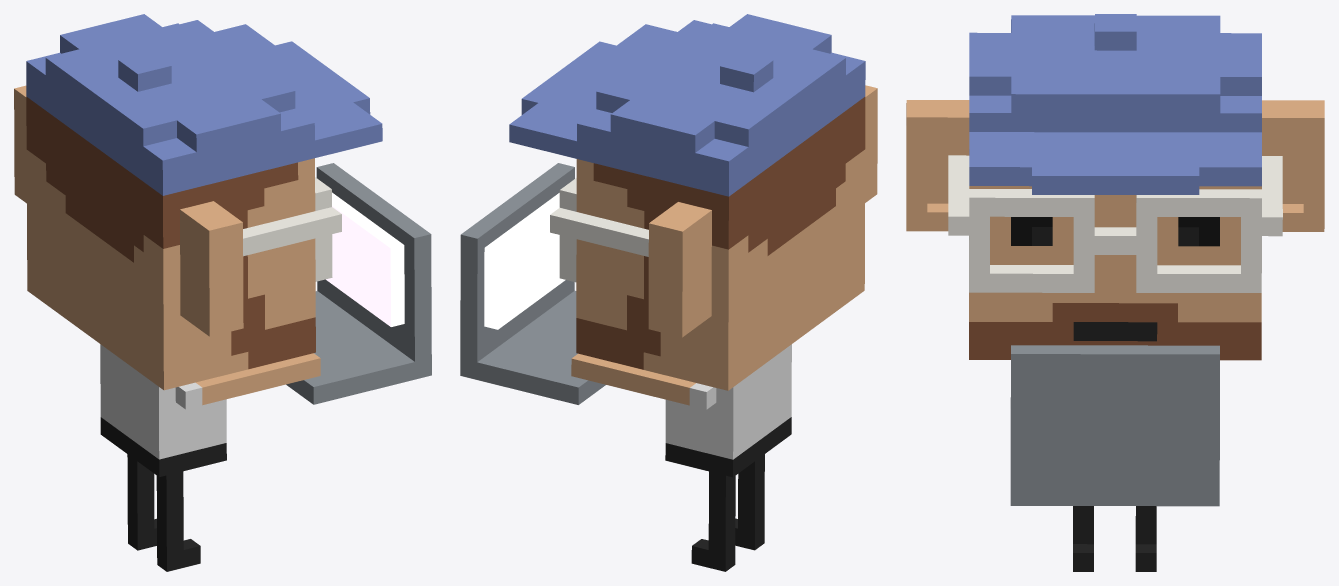
Rendered from character1.glb.
3 views of the same model, side by side, from view 1: azimuth 30°, elevation 25°; view 2: azimuth 150°, elevation 25°; view 3: azimuth 270°, elevation 25° (orthographic). The views are drawn at different scales.
Visible parts, largest first — view 1: me.vox, Cubo; view 2: me.vox, Cubo; view 3: me.vox.
Boxes of the visible parts, x1,y1,x2,y2 form: me.vox: [14, 14, 431, 571]; Cubo: [326, 192, 404, 326]; me.vox: [460, 14, 877, 571]; Cubo: [484, 193, 565, 329]; me.vox: [906, 14, 1324, 571].
Bounding box in the file's own units: 17.08 × 28.01 × 20.01.
2 materials, 1 textured.
